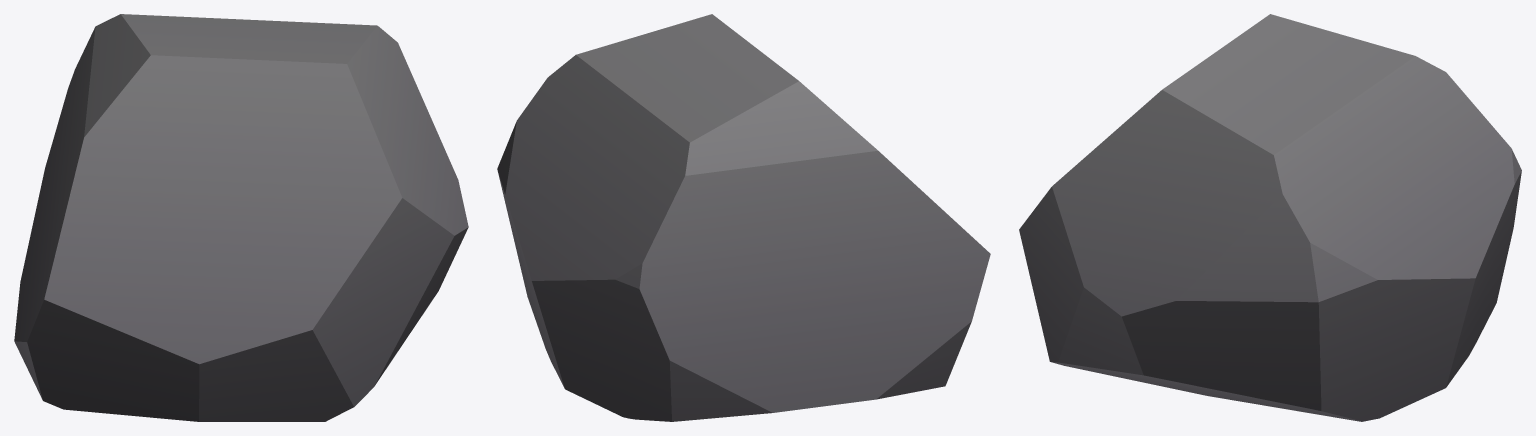
Rendered from Rock_01.glb.
3 renders of one model, left to right at view 1: azimuth 30°, elevation 25°; view 2: azimuth 150°, elevation 25°; view 3: azimuth 270°, elevation 25°, orthographic. The views are drawn at different scales.
Parts seen in each view (by area): view 1: Rock_01; view 2: Rock_01; view 3: Rock_01.
Boxes of the visible parts, x1=… form: Rock_01: x1=14, y1=14, x2=468, y2=421; Rock_01: x1=497, y1=14, x2=990, y2=421; Rock_01: x1=1019, y1=14, x2=1521, y2=421.
Bounding box in the file's own units: 1.43 × 1.07 × 1.39.
Materials: 1 (1 with a texture image).
